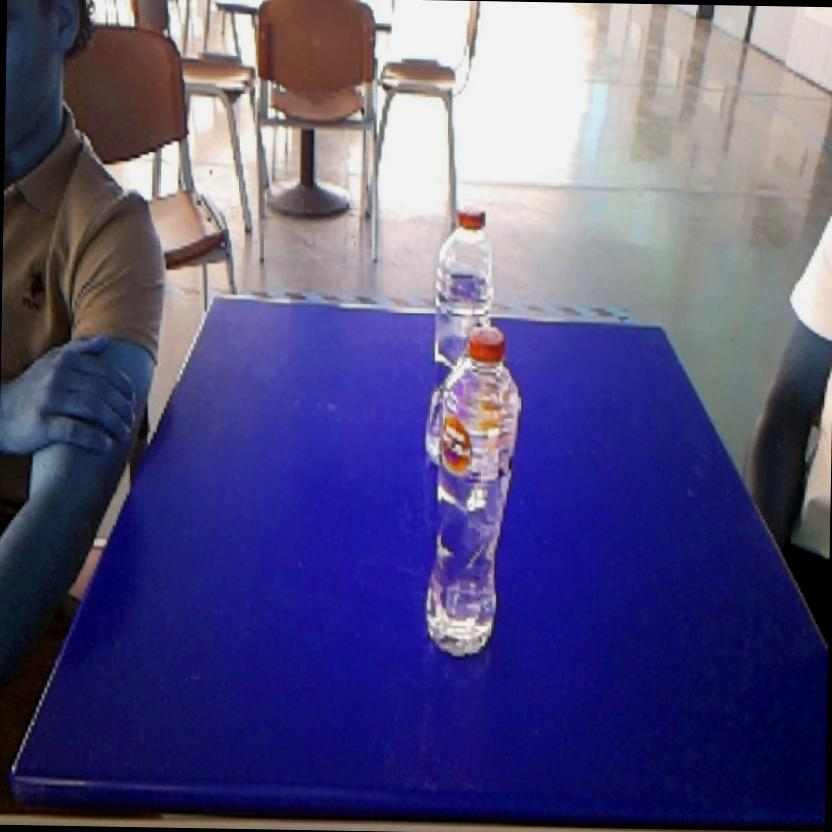good: (420, 322, 532, 670)
no_label: (429, 192, 504, 322)
